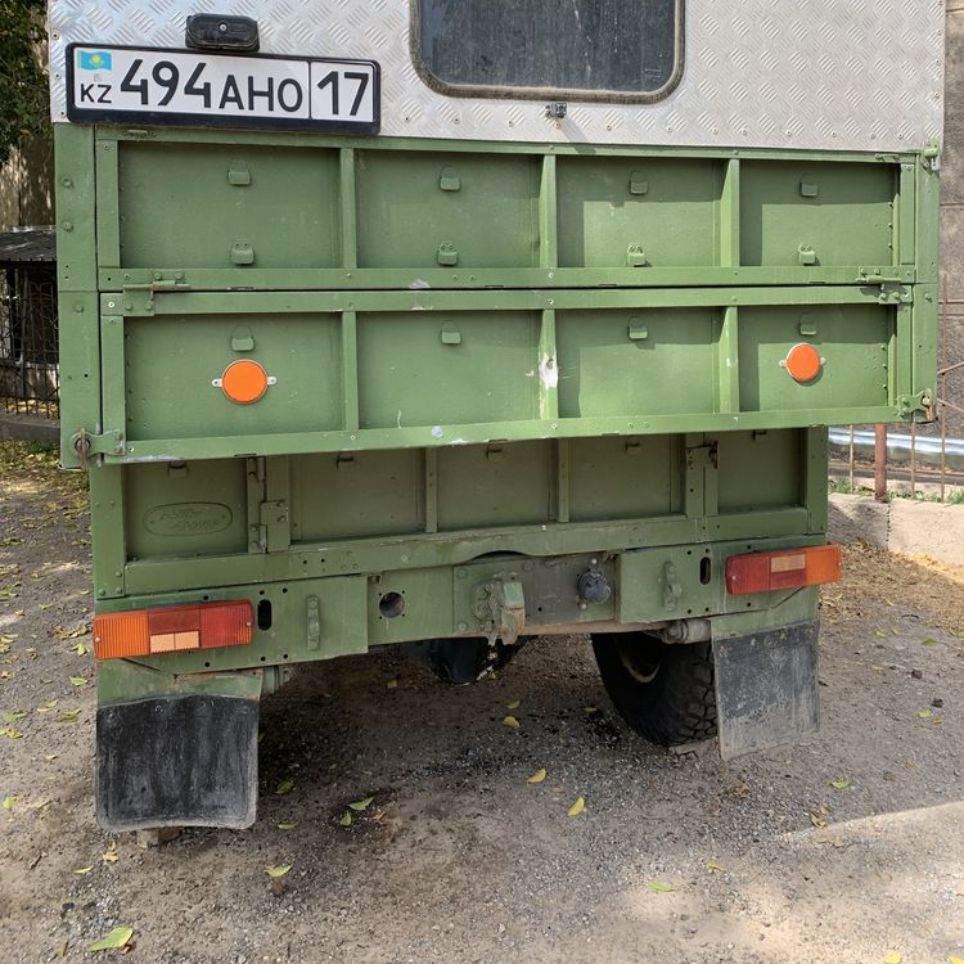license plate: (68, 44, 375, 128)
truck: (52, 2, 937, 713)
